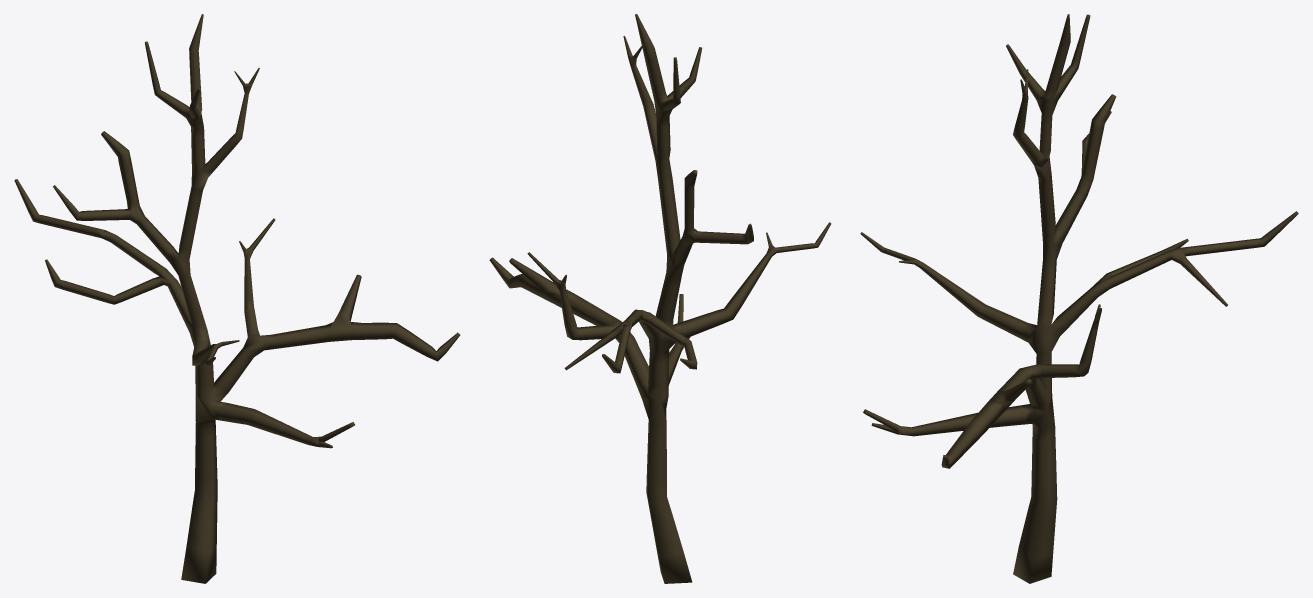
The model's file is Tree2.glb.
3 renders of one model, left to right at view 1: azimuth 30°, elevation 25°; view 2: azimuth 150°, elevation 25°; view 3: azimuth 270°, elevation 25°, orthographic. The views are drawn at different scales.
Parts seen in each view (by area): view 1: Tree2; view 2: Tree2; view 3: Tree2.
Part boxes in pixels (box(x1,y1,x2,y2)): Tree2: box(14, 14, 460, 583); Tree2: box(489, 14, 831, 583); Tree2: box(860, 14, 1298, 583).
Bounding box in the file's own units: 5.44 × 8.62 × 5.98.
